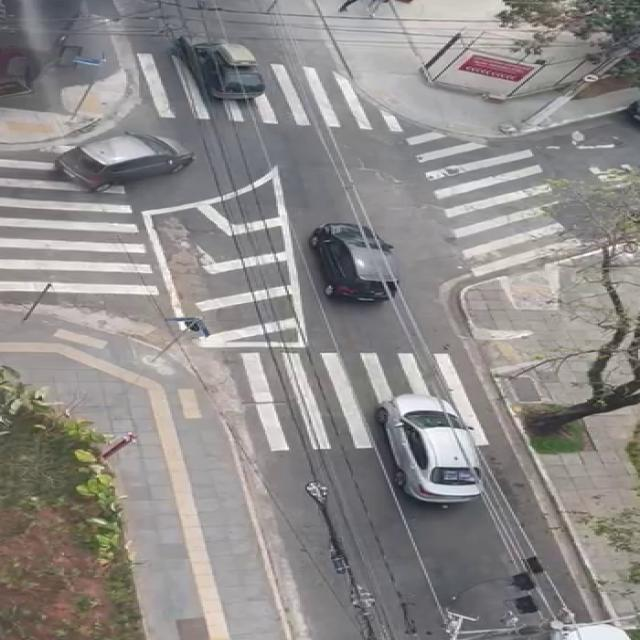car: (376, 389, 504, 519), (297, 215, 414, 311), (49, 129, 202, 188), (175, 31, 268, 101)
